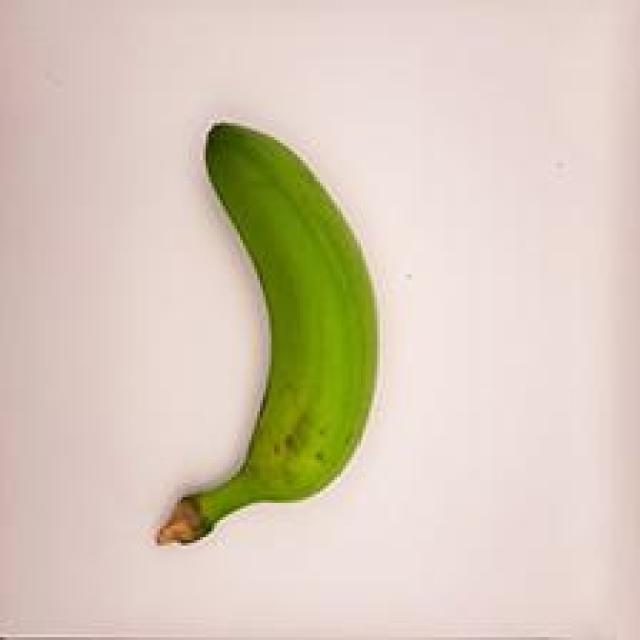Raw: (142, 78, 404, 555)
